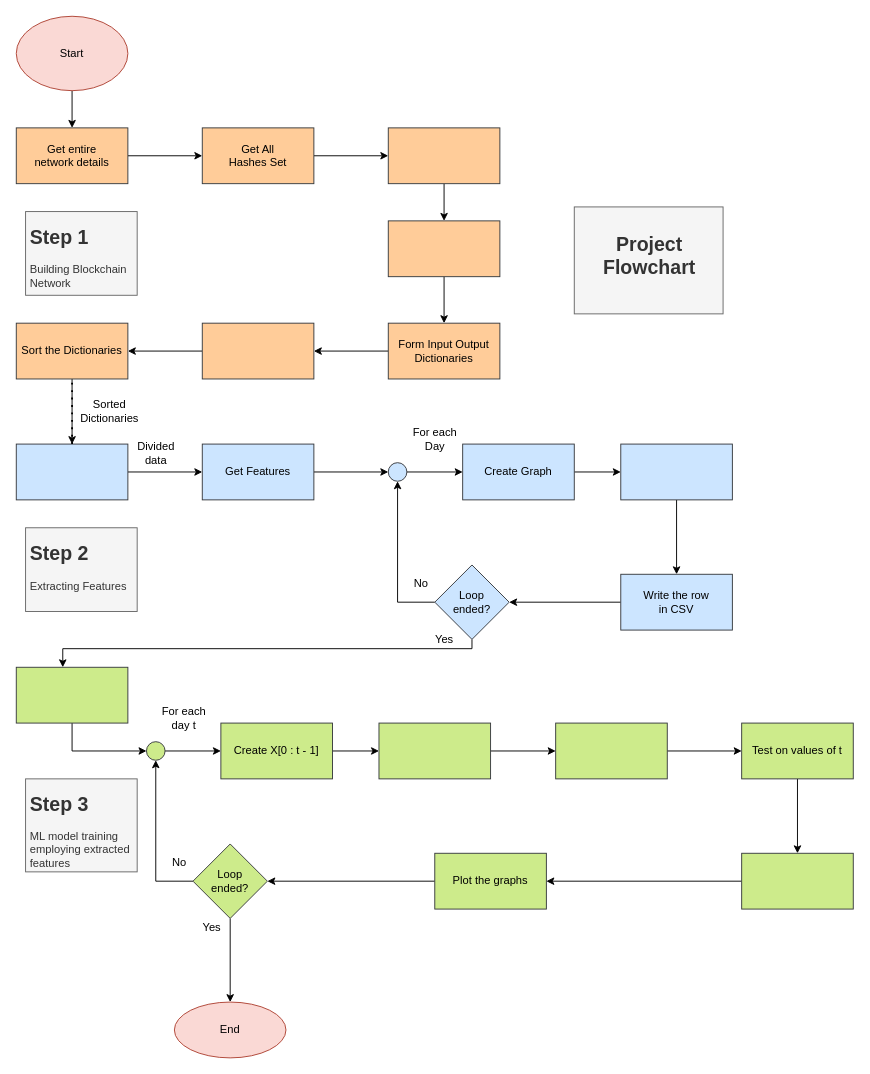
This 870x1074 diagram has some shape labels left out. Each missing label, with the centre of its shape:
Compute features: point (676, 471)
Create Hash Mappings: point (443, 155)
Get All 24hrs window: point (71, 471)
Merge Data: point (257, 350)
Merge Monthly Datasets CSVs: point (71, 694)
Standardize: point (434, 750)
Store the results: point (797, 880)
Train the model: point (611, 750)
Update Input Output Files: point (443, 248)
